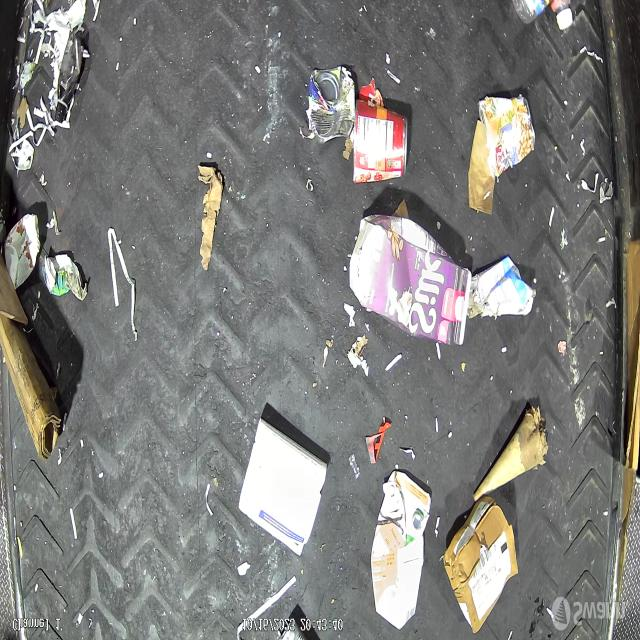can: (352, 100, 409, 186), (478, 96, 536, 179), (306, 65, 356, 146), (3, 208, 40, 290)
non_white_jug: (350, 211, 472, 346), (372, 472, 432, 633)
